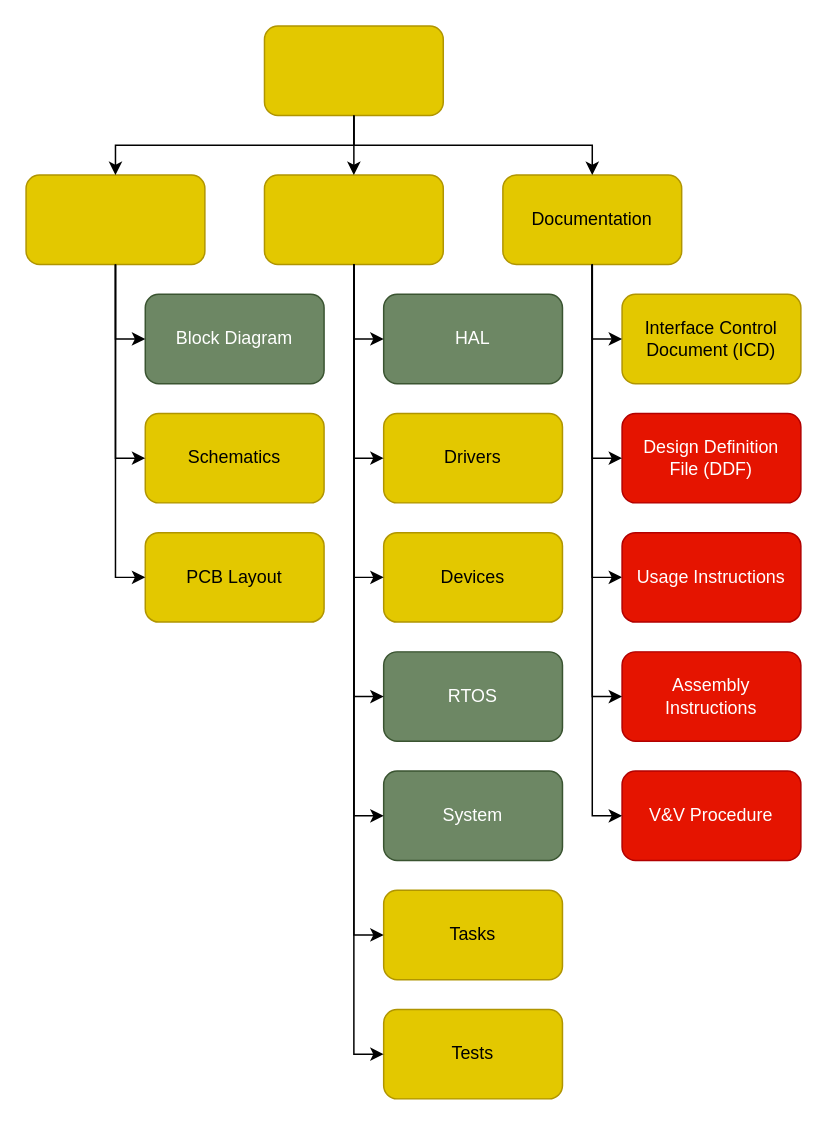
Some shapes in this 827 by 1125 pixel diagram are drawn without their labels. The shapes that lost their labels are listed below. From the top down, each one's centre as x and y in pixels, then its label:
At point (353, 70): "TTC 2.0".
At point (115, 219): "Hardware".
At point (353, 219): "Firmware".
